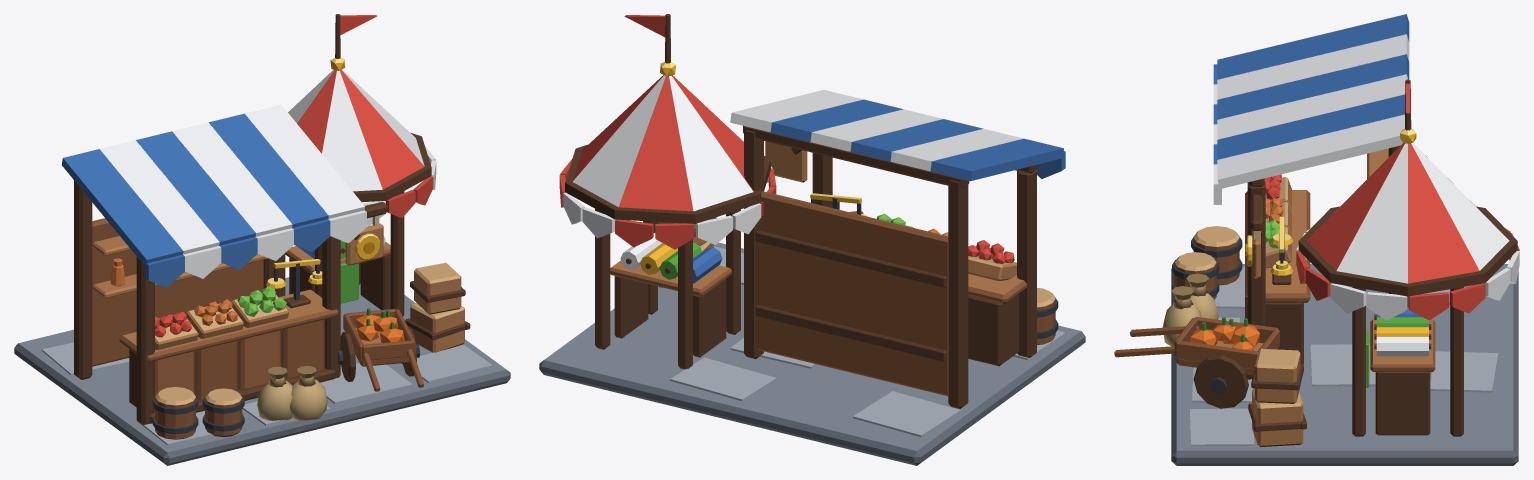
File: Bld_Market.fbx
The picture shows the model from 3 angles, left to right: view 1: azimuth 30°, elevation 25°; view 2: azimuth 150°, elevation 25°; view 3: azimuth 270°, elevation 25°; orthographic projection. The views are drawn at different scales.
Parts seen in each view (by area): view 1: Bld_Market; view 2: Bld_Market; view 3: Bld_Market.
Boxes of the visible parts, <box> form: Bld_Market: <box>14,14,510,465</box>; Bld_Market: <box>539,14,1085,465</box>; Bld_Market: <box>1114,14,1519,465</box>.
Bounding box in the file's own units: 4.49 × 3.66 × 3.86.
